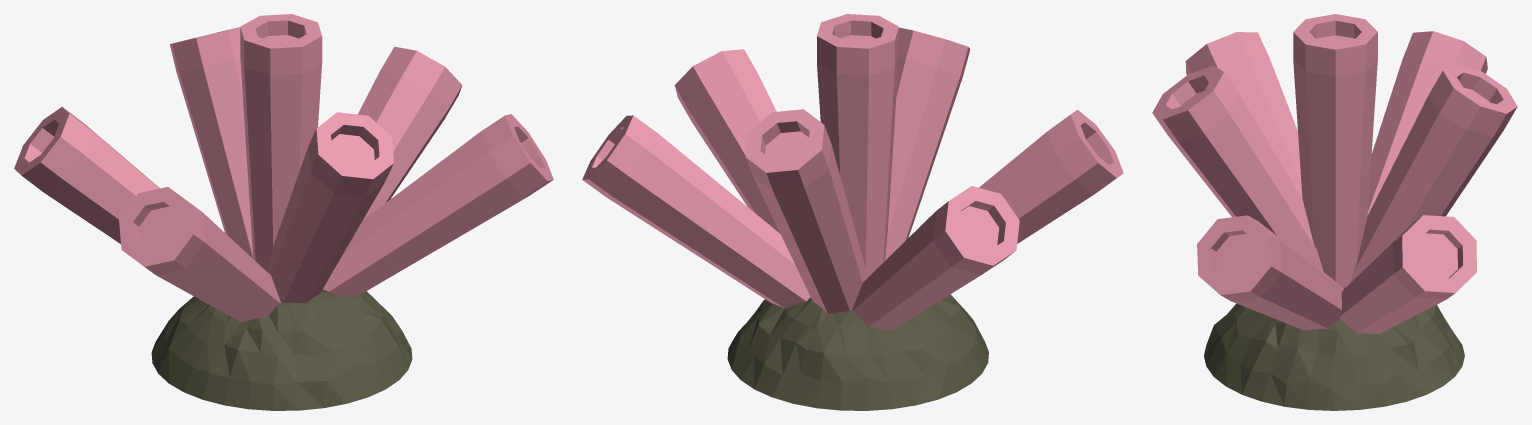
File: coral1.fbx
3 renders of one model, left to right at view 1: azimuth 30°, elevation 25°; view 2: azimuth 150°, elevation 25°; view 3: azimuth 270°, elevation 25°, orthographic.
Visible parts, largest first — view 1: coral 1; view 2: coral 1; view 3: coral 1.
Boxes of the visible parts, <box> form: coral 1: <box>14,14,553,410</box>; coral 1: <box>582,14,1123,410</box>; coral 1: <box>1152,14,1517,410</box>.
Size of the model in its own units: 352 by 253 by 259.
